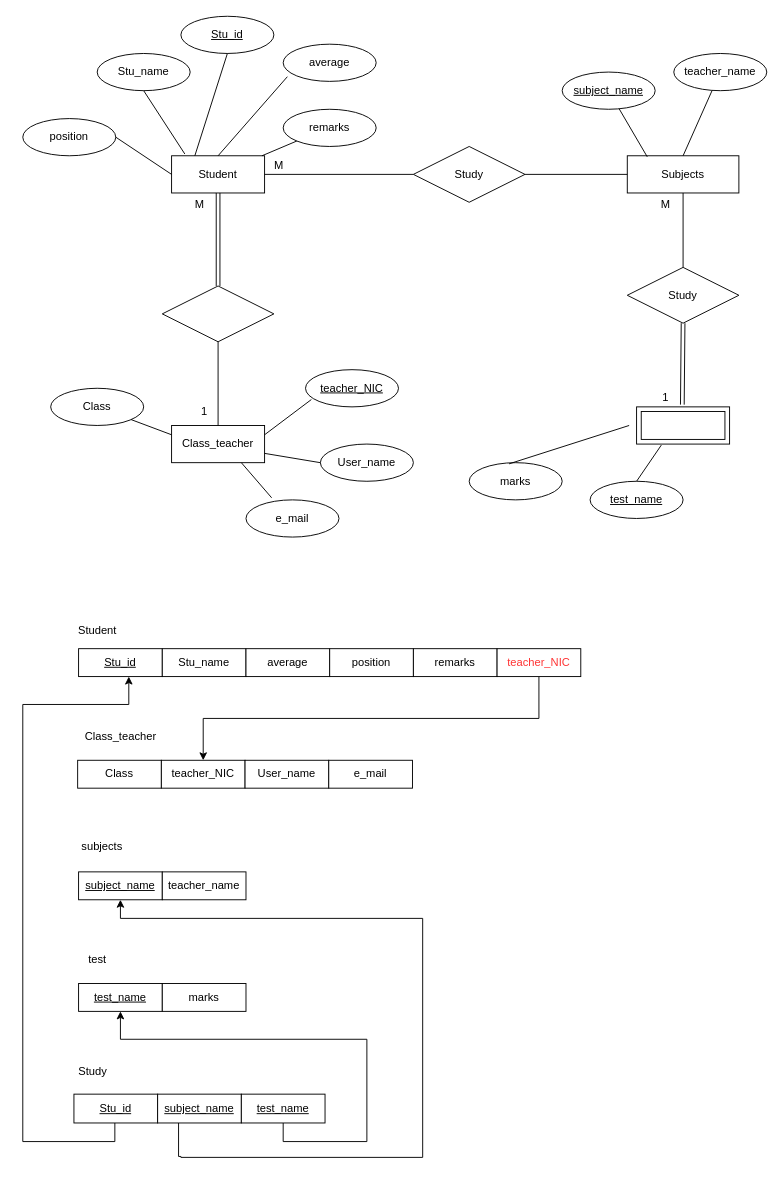
Image size: 783x1181. Some labels were removed from this diagram. The centre of each missing label's shape, as x and y in pixels:
"Entity" goes at point (683, 425).
"Register" goes at point (217, 313).
